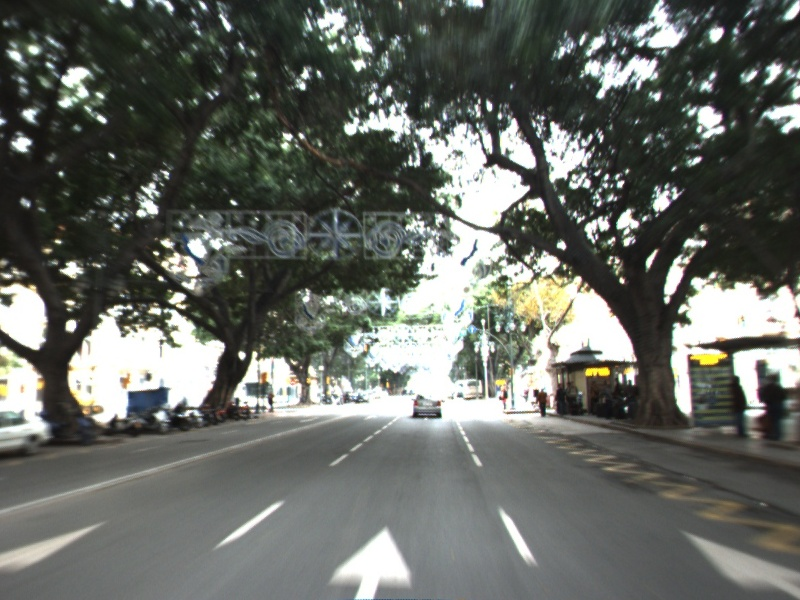STRAIGHT: (674, 524, 800, 599), (326, 520, 417, 600)
